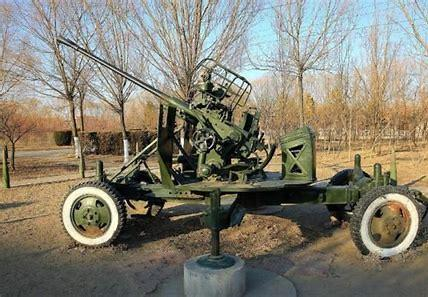MIL_SPG: (60, 38, 428, 268)
